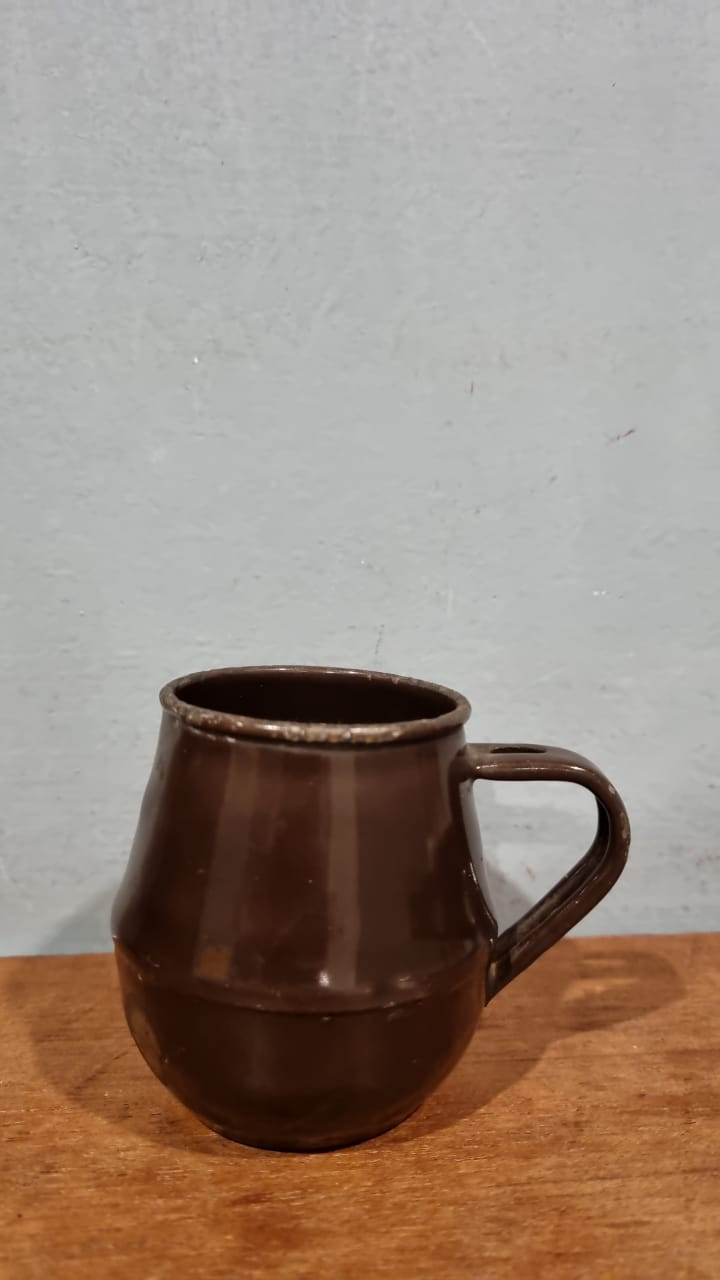mate: (112, 652, 648, 1161)
metal: (110, 650, 646, 1159)
